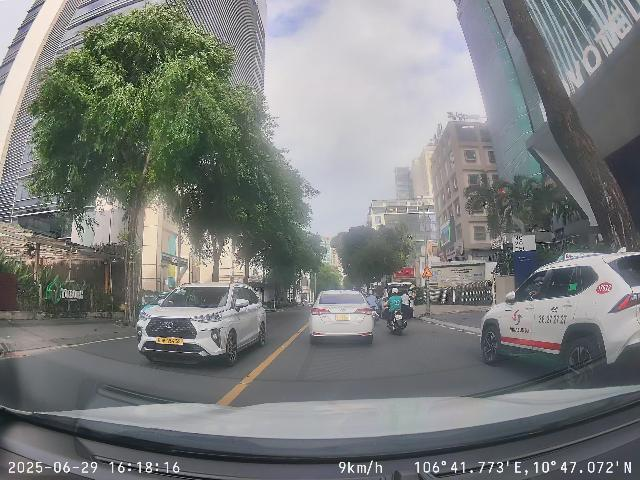225-chu-y-tre-em: (421, 267, 433, 278)
